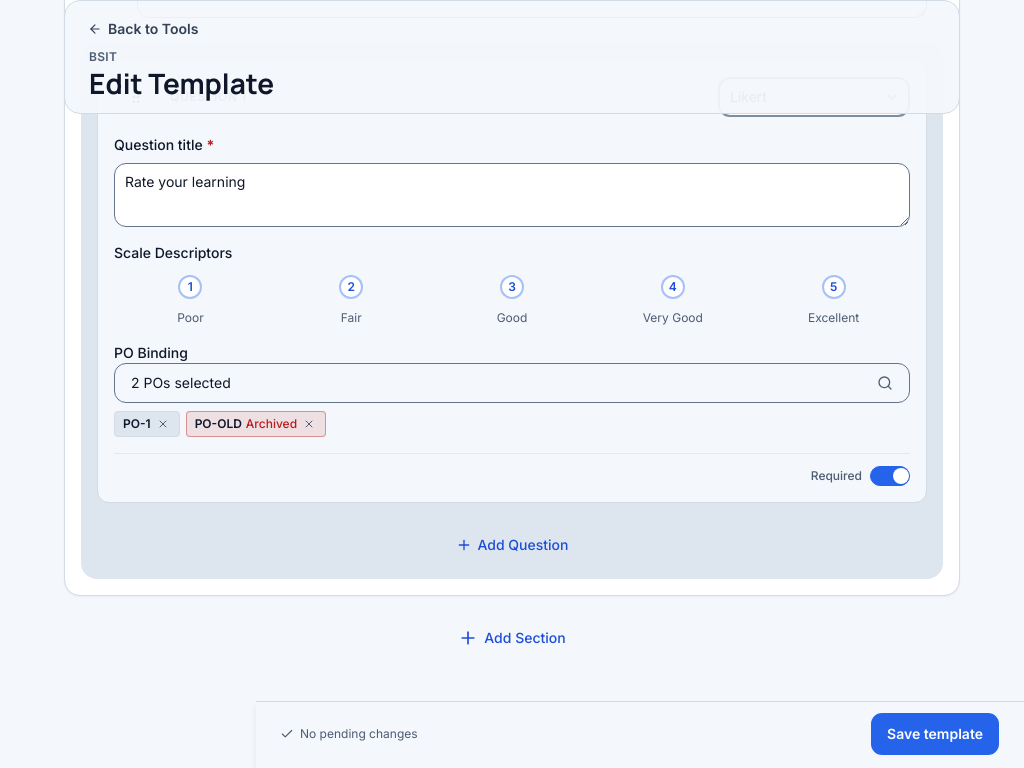
TemplateBuilder › renders archived PO bindings as removable archived chips
This screenshot has width=1024, height=768.
(page scrolled)
Check: the text "PO-1" is shown, box [123,416,151,432]
Check: the text "PO-OLD" is shown, box [195,416,242,432]
// Removing the archived chip keeps the active selection.
Click the button named "Remove PO-OLD".
click(309, 424)  # box [301,416,317,432]
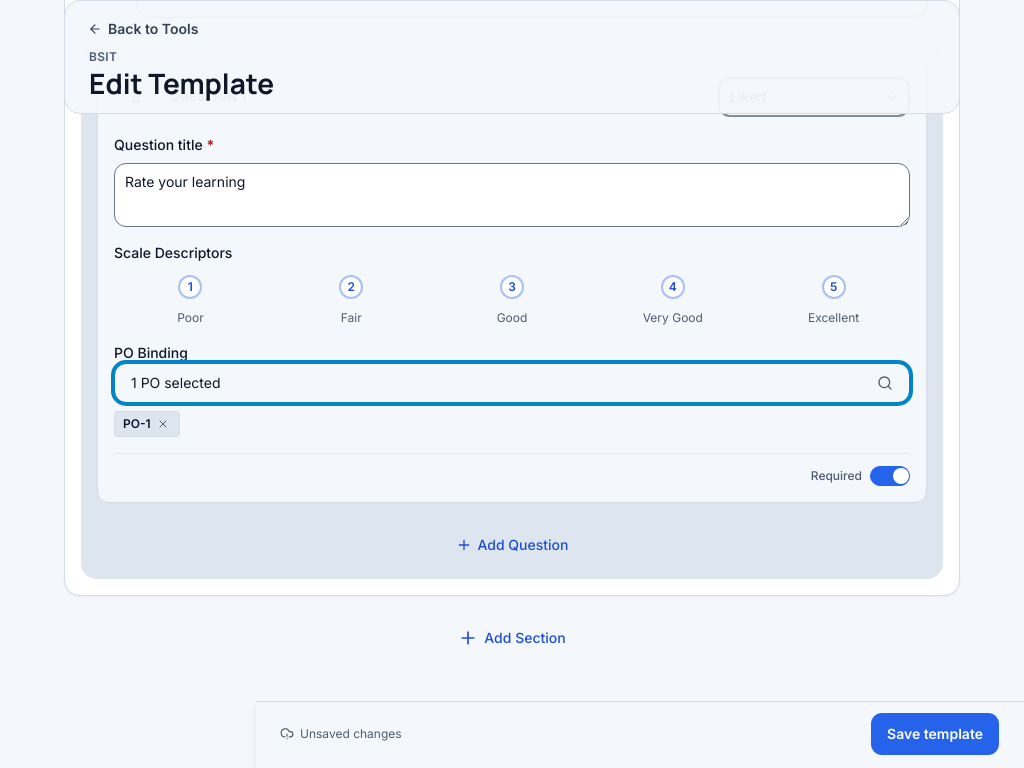
Check: the text "PO-1" is shown, box [123,416,151,432]
Check: the text "PO-OLD" is gone
